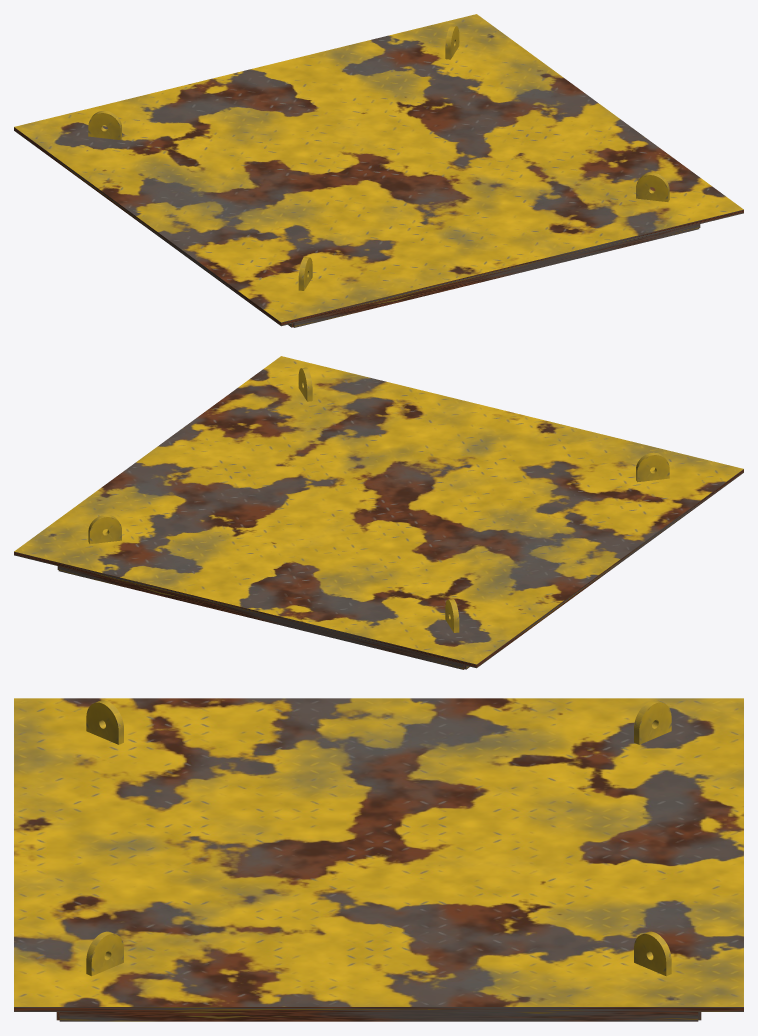
The model's file is SM_Couvercle_Monterie.glb.
The picture shows the model from 3 angles, top to bottom: view 1: azimuth 30°, elevation 25°; view 2: azimuth 150°, elevation 25°; view 3: azimuth 270°, elevation 25°; orthographic projection. The views are drawn at different scales.
Parts seen in each view (by area): view 1: SM_Couvercle_Monterie; view 2: SM_Couvercle_Monterie; view 3: SM_Couvercle_Monterie.
Boxes of the visible parts, <box> form: SM_Couvercle_Monterie: <box>14,14,743,327</box>; SM_Couvercle_Monterie: <box>14,356,743,669</box>; SM_Couvercle_Monterie: <box>14,698,743,1021</box>.
Size of the model in its own units: 1.22 by 0.1238 by 1.22.
2 materials, 2 textured.
